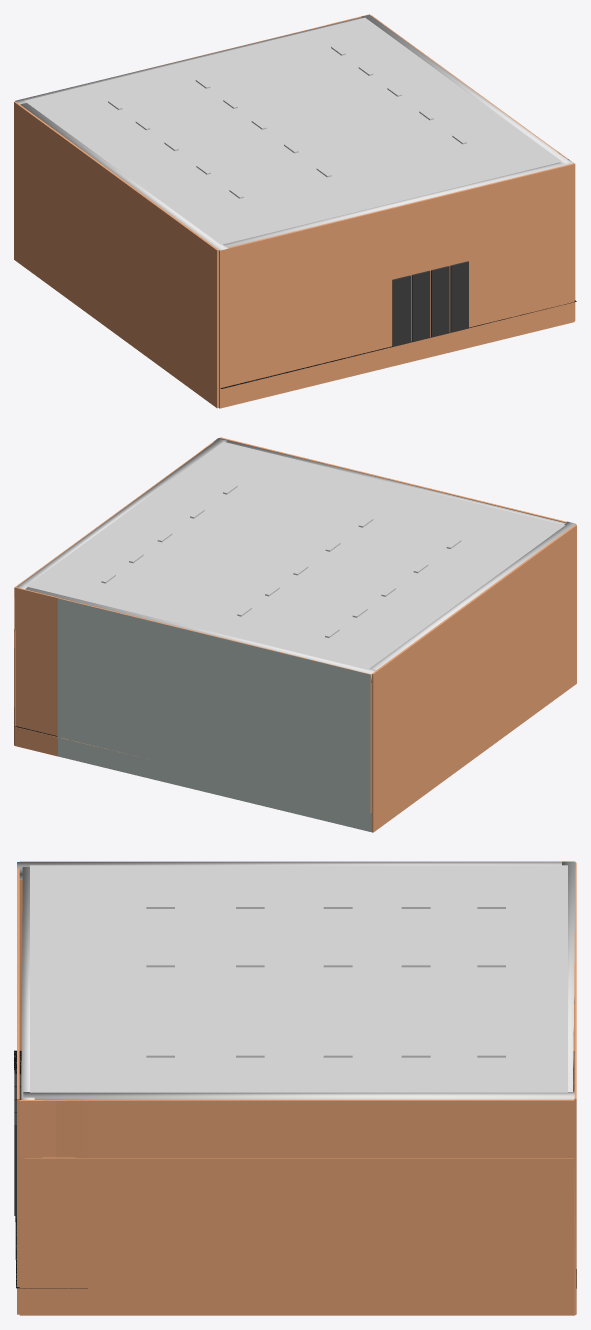
The model's file is UpdatedRoom.fbx.
The picture shows the model from 3 angles, top to bottom: view 1: azimuth 30°, elevation 25°; view 2: azimuth 150°, elevation 25°; view 3: azimuth 270°, elevation 25°; orthographic projection. The views are drawn at different scales.
Visible parts, largest first — view 1: Floor, Plane, Cube Lamp.002, Cube Lamp, Cube Lamp.003, Cube Lamp.001, Collection.002|Cube.004_L_LOCKER.blend|Dupli|3, Collection.002|Cube.001_L_LOCKER.blend|Dupli|5, Collection.003|Cube.004_L_LOCKER.blend|Dupli|3, Collection.004|Cube.004_L_LOCKER.blend|Dupli|3, Collection.001|Cube.004_L_LOCKER.blend|Dupli|3, Collection.001|Cube.001_L_LOCKER.blend|Dupli|5 (+2 smaller); view 2: Floor, Plane, Cube Lamp, Cube Lamp.001, Cube Lamp.003, Cube Lamp.002; view 3: Floor, Plane, Cube Lamp.003, Cube Lamp, Cube Lamp.002, Cube Lamp.001.
Part boxes in pixels (x1=…): Floor: x1=14, y1=14, x2=575, y2=408; Plane: x1=24, y1=17, x2=561, y2=244; Cube Lamp.002: x1=223, y1=159, x2=573, y2=247; Cube Lamp: x1=20, y1=103, x2=228, y2=250; Cube Lamp.003: x1=361, y1=14, x2=570, y2=164; Cube Lamp.001: x1=15, y1=17, x2=362, y2=104; Collection.002|Cube.004_L_LOCKER.blend|Dupli|3: x1=411, y1=270, x2=430, y2=308; Collection.002|Cube.001_L_LOCKER.blend|Dupli|5: x1=411, y1=304, x2=430, y2=341; Collection.003|Cube.004_L_LOCKER.blend|Dupli|3: x1=392, y1=275, x2=410, y2=313; Collection.004|Cube.004_L_LOCKER.blend|Dupli|3: x1=450, y1=261, x2=468, y2=299; Collection.001|Cube.004_L_LOCKER.blend|Dupli|3: x1=431, y1=266, x2=449, y2=303; Collection.001|Cube.001_L_LOCKER.blend|Dupli|5: x1=431, y1=300, x2=449, y2=337; Floor: x1=14, y1=437, x2=576, y2=832; Plane: x1=26, y1=441, x2=564, y2=669; Cube Lamp: x1=370, y1=521, x2=575, y2=669; Cube Lamp.001: x1=25, y1=587, x2=376, y2=682; Cube Lamp.003: x1=16, y1=439, x2=227, y2=589; Cube Lamp.002: x1=213, y1=438, x2=565, y2=524; Floor: x1=17, y1=861, x2=576, y2=1315; Plane: x1=30, y1=865, x2=567, y2=1092; Cube Lamp.003: x1=23, y1=1092, x2=574, y2=1100; Cube Lamp: x1=17, y1=862, x2=561, y2=879; Cube Lamp.002: x1=21, y1=867, x2=34, y2=1099; Cube Lamp.001: x1=562, y1=861, x2=575, y2=1091.
Bounding box in the file's own units: 1678 × 716 × 1670.
Materials: 64 (24 with a texture image).
